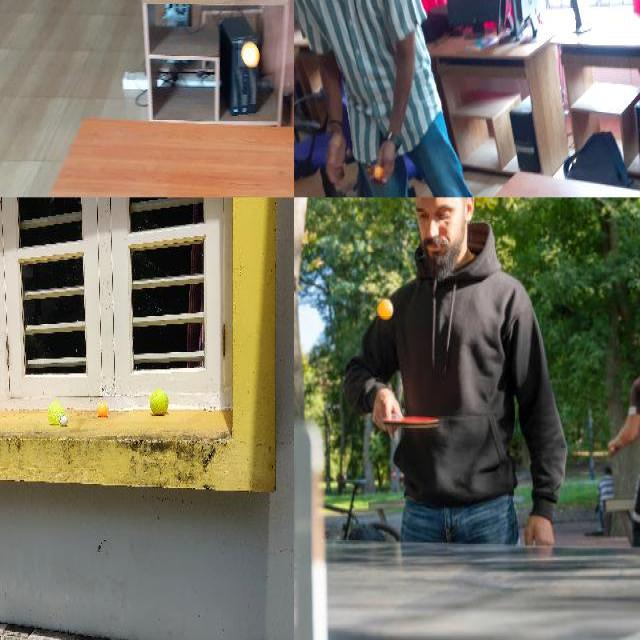ping-pong-ball: (238, 41, 258, 68), (376, 299, 392, 317), (98, 402, 109, 417), (374, 165, 382, 179)
